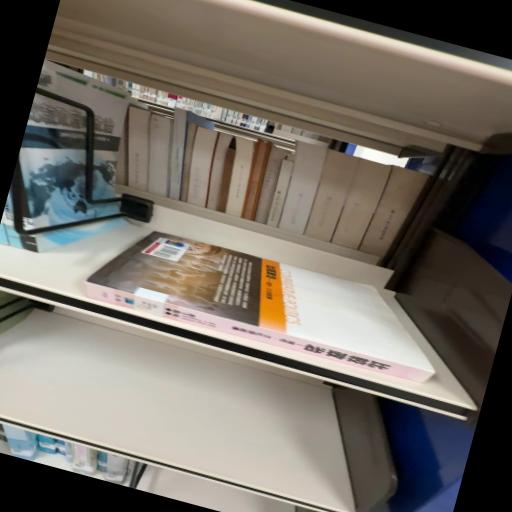flat: (85, 233, 434, 383)
